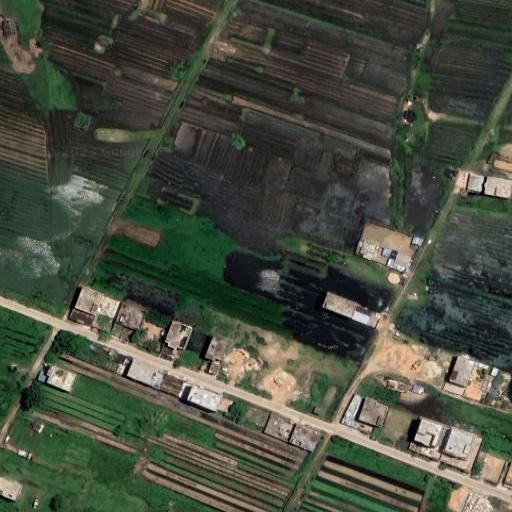building: (316, 288, 378, 329), (346, 393, 387, 435), (407, 415, 446, 458), (442, 427, 480, 470), (72, 286, 117, 320), (441, 352, 475, 393), (37, 364, 75, 396), (467, 172, 512, 198), (114, 299, 144, 329), (162, 320, 192, 350), (184, 384, 217, 411), (126, 355, 159, 382), (204, 338, 229, 366), (461, 494, 497, 512)
